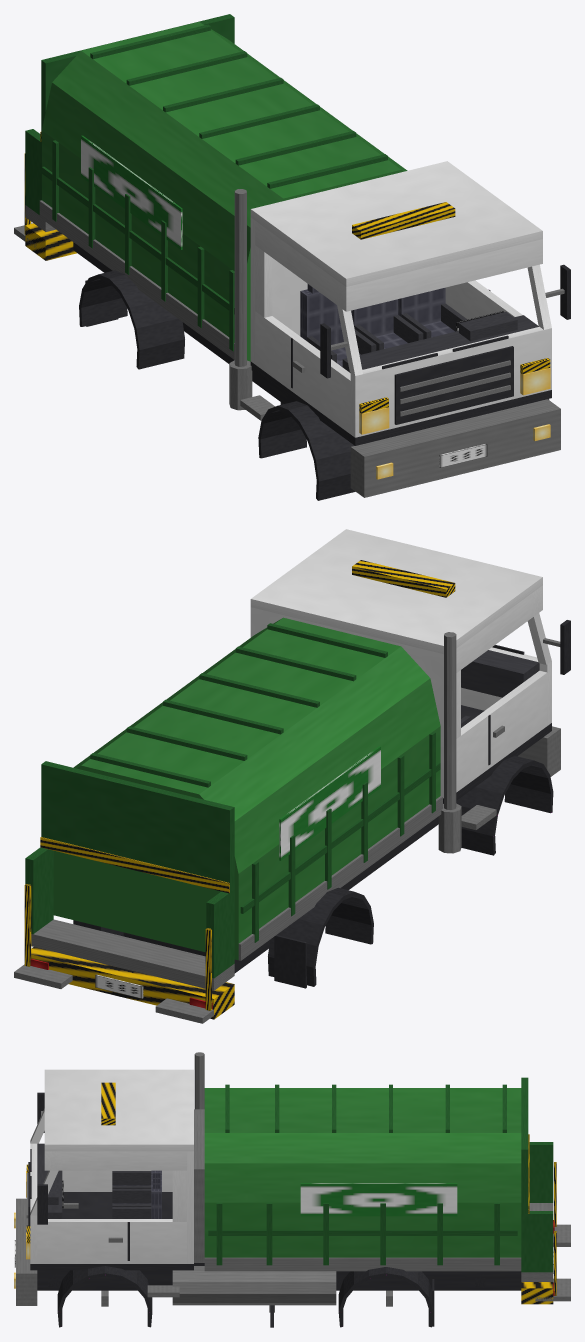
The model's file is garbage_truck.obj.
3 renders of one model, top to bottom at view 1: azimuth 30°, elevation 25°; view 2: azimuth 150°, elevation 25°; view 3: azimuth 270°, elevation 25°, orthographic. The views are drawn at different scales.
Parts seen in each view (by area): view 1: chassis; view 2: chassis; view 3: chassis.
Boxes of the visible parts, left/top/right/bottom form: chassis: left=14, top=14, right=570, bottom=500; chassis: left=14, top=529, right=570, bottom=1023; chassis: left=14, top=1052, right=570, bottom=1327.
Bounding box in the file's own units: 3.1 × 3.52 × 7.83.
Materials: 1 (1 with a texture image).
